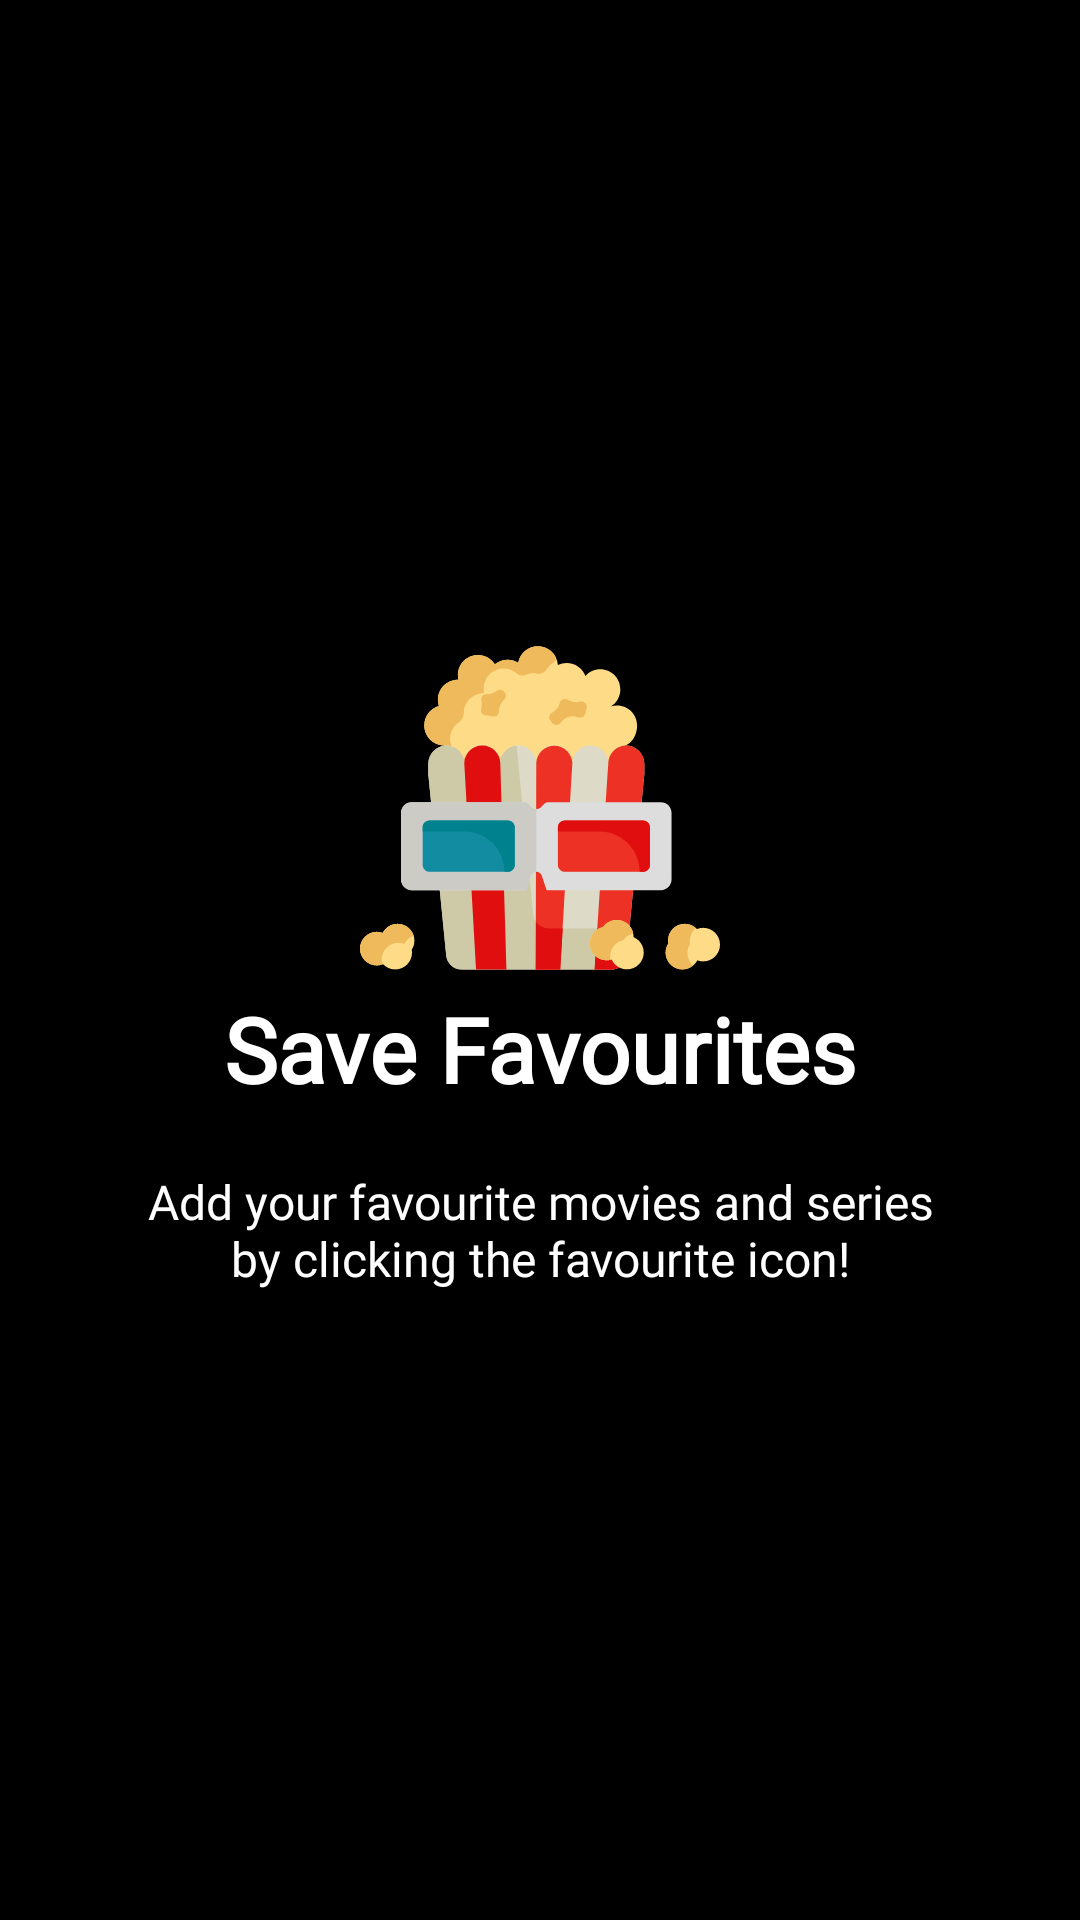

Icon bounding boxes for this 1080*1920 phone screenshot, format bbox=[x1, y1, x2, y2]:
popcorn: bbox=[360, 646, 720, 970]
